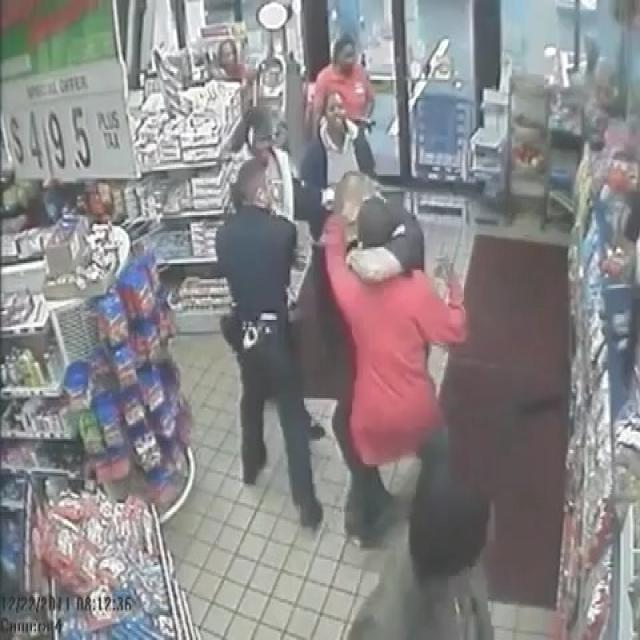fight: (183, 4, 477, 474)
